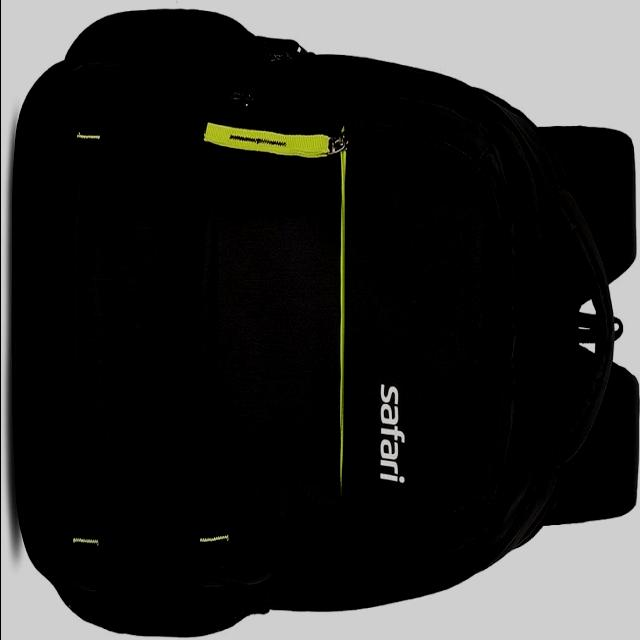backpack: (12, 8, 640, 638)
